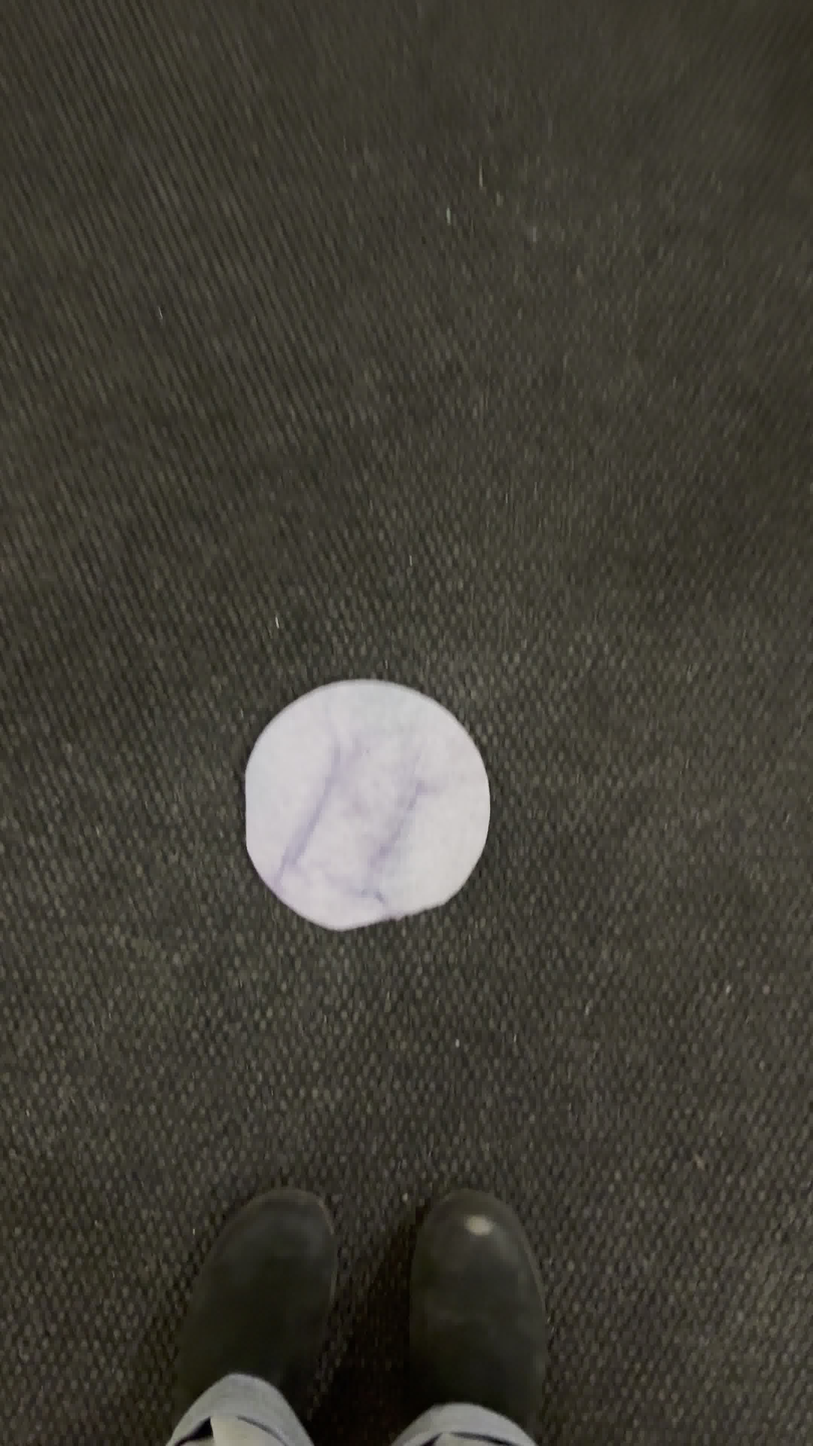Target: (237, 669, 498, 935)
